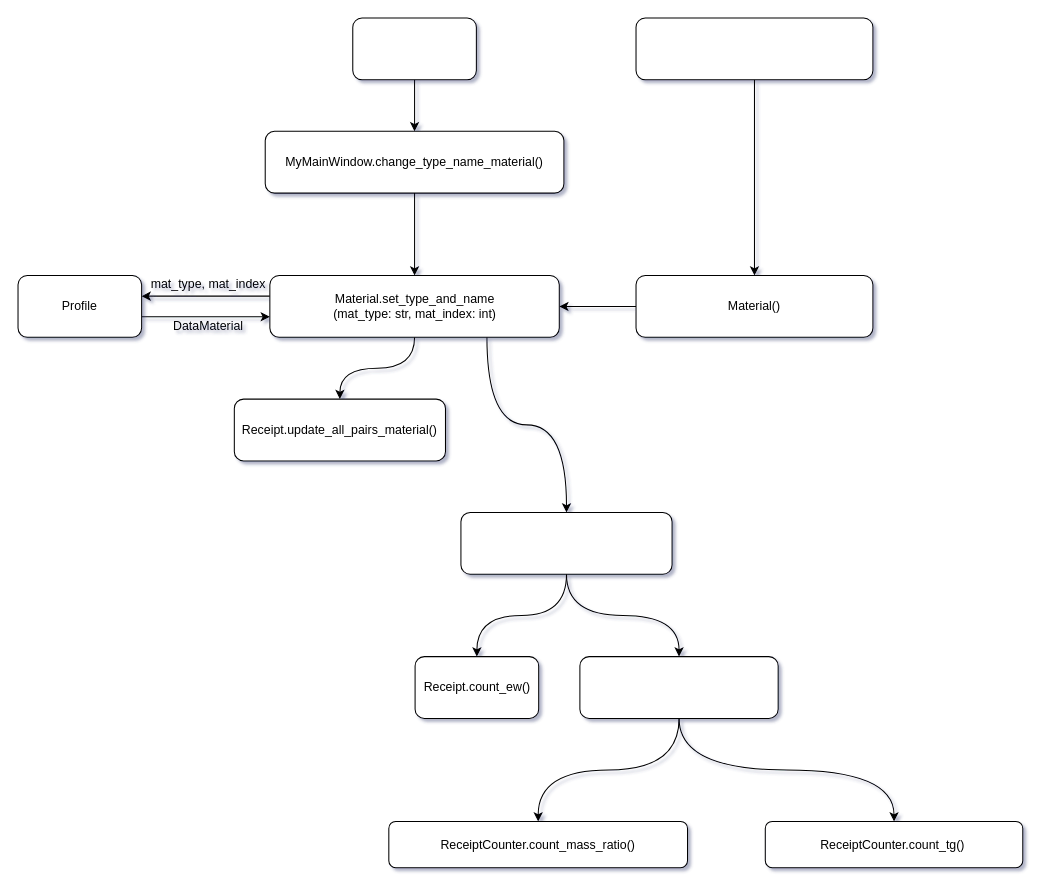
Image size: 1048x892. Some labels were removed from this diagram. Here are the shapes that lost their labels. From the top down, the box of each, then its label:
(352, 17, 476, 80): Qt window material changed
(635, 17, 873, 80): MyMainWindow.add_line()
(460, 511, 672, 574): Receipt.update_all_parameters()
(579, 656, 778, 718): Receipt_counter.update_labels()
